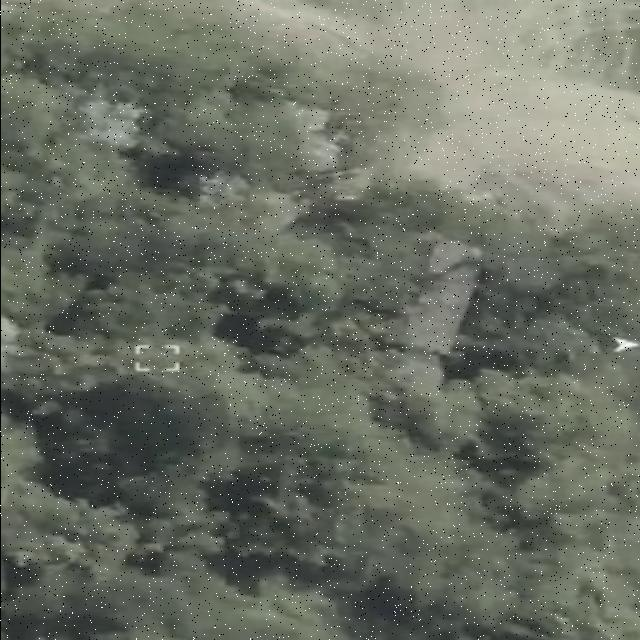TRUCK: (332, 235, 496, 413)
